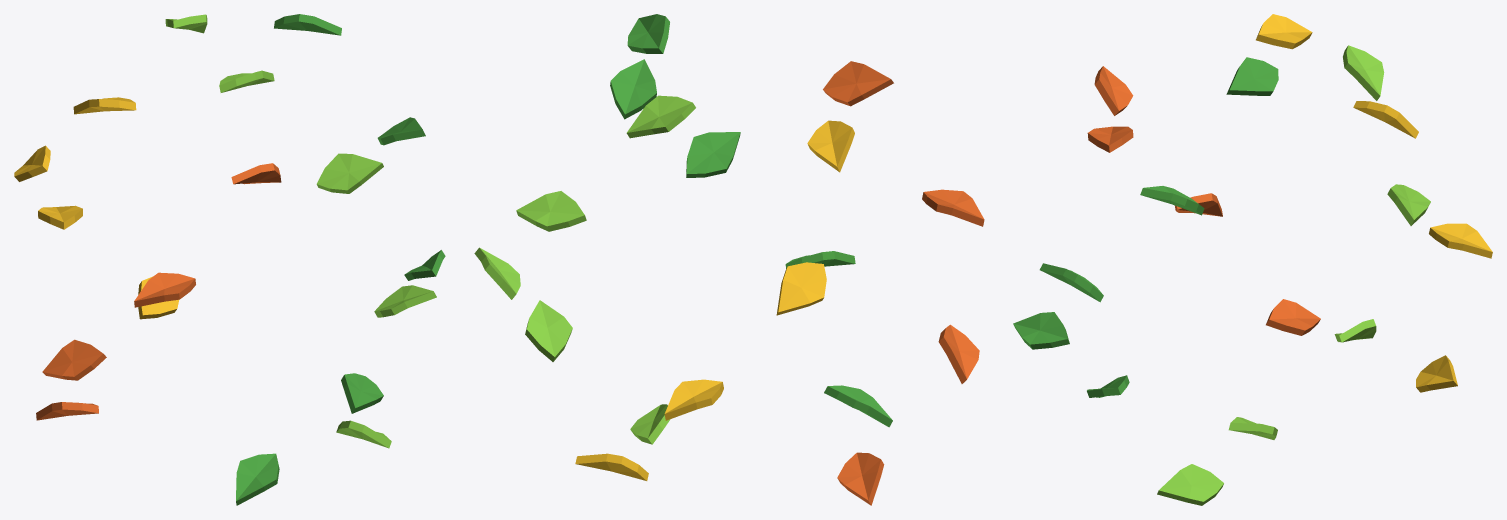
File: fx_nature_falling_leaves.glb
The picture shows the model from 3 angles, left to right: view 1: azimuth 30°, elevation 25°; view 2: azimuth 150°, elevation 25°; view 3: azimuth 270°, elevation 25°; orthographic projection. The views are drawn at different scales.
Parts seen in each view (by area): view 1: fx_nature_falling_leaves_leaf_green, fx_nature_falling_leaves_leaf_lime, fx_nature_falling_leaves_leaf_autumn, fx_nature_falling_leaves_leaf_gold; view 2: fx_nature_falling_leaves_leaf_lime, fx_nature_falling_leaves_leaf_green, fx_nature_falling_leaves_leaf_autumn, fx_nature_falling_leaves_leaf_gold; view 3: fx_nature_falling_leaves_leaf_lime, fx_nature_falling_leaves_leaf_green, fx_nature_falling_leaves_leaf_gold, fx_nature_falling_leaves_leaf_autumn.
Boxes of the visible parts, x1,y1,x2,y2 form: fx_nature_falling_leaves_leaf_green: [236, 14, 445, 505]; fx_nature_falling_leaves_leaf_lime: [165, 14, 436, 448]; fx_nature_falling_leaves_leaf_autumn: [36, 163, 281, 420]; fx_nature_falling_leaves_leaf_gold: [14, 97, 178, 319]; fx_nature_falling_leaves_leaf_lime: [474, 95, 695, 444]; fx_nature_falling_leaves_leaf_green: [610, 14, 892, 427]; fx_nature_falling_leaves_leaf_autumn: [823, 61, 984, 505]; fx_nature_falling_leaves_leaf_gold: [575, 120, 854, 480]; fx_nature_falling_leaves_leaf_lime: [1157, 45, 1430, 505]; fx_nature_falling_leaves_leaf_green: [1013, 57, 1278, 397]; fx_nature_falling_leaves_leaf_gold: [1256, 14, 1492, 392]; fx_nature_falling_leaves_leaf_autumn: [1087, 66, 1320, 335].
Bounding box in the file's own units: 1.34 × 1.34 × 1.37.
